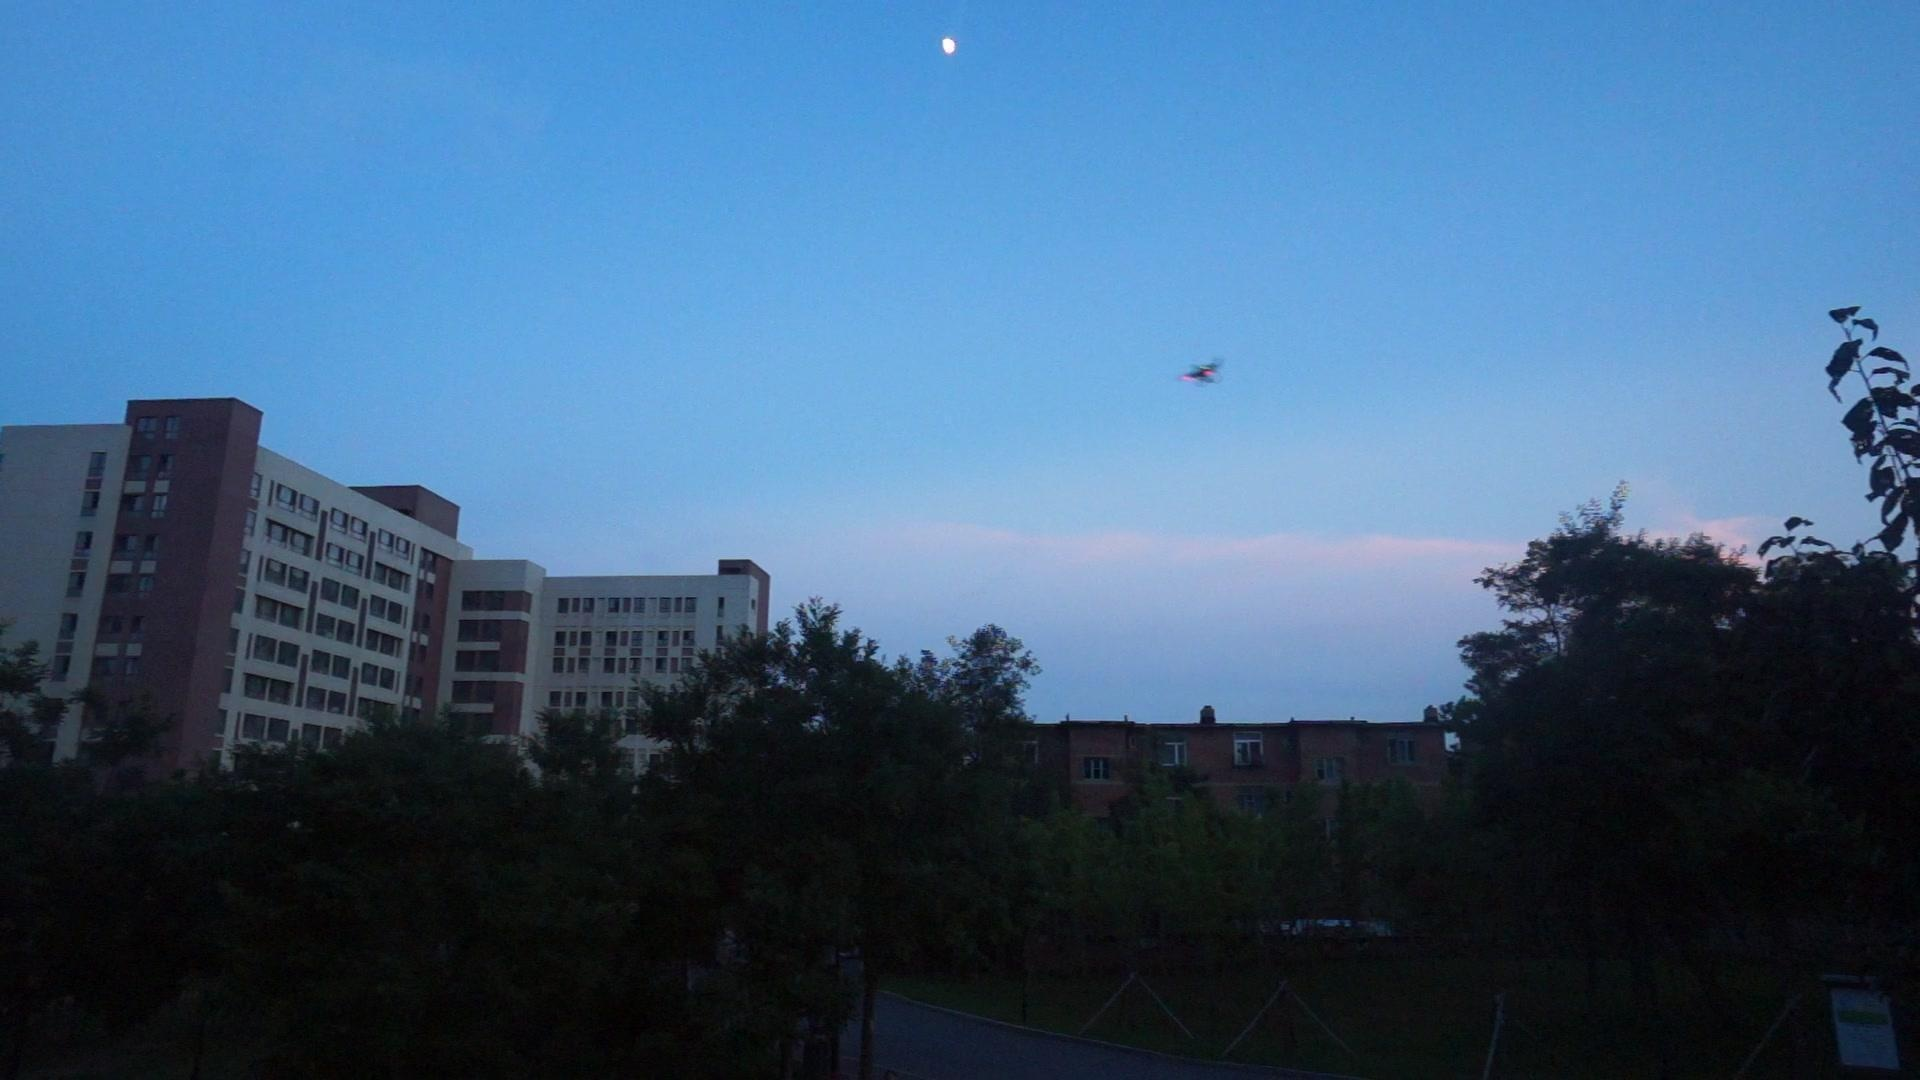UAV: (1178, 357, 1224, 389)
